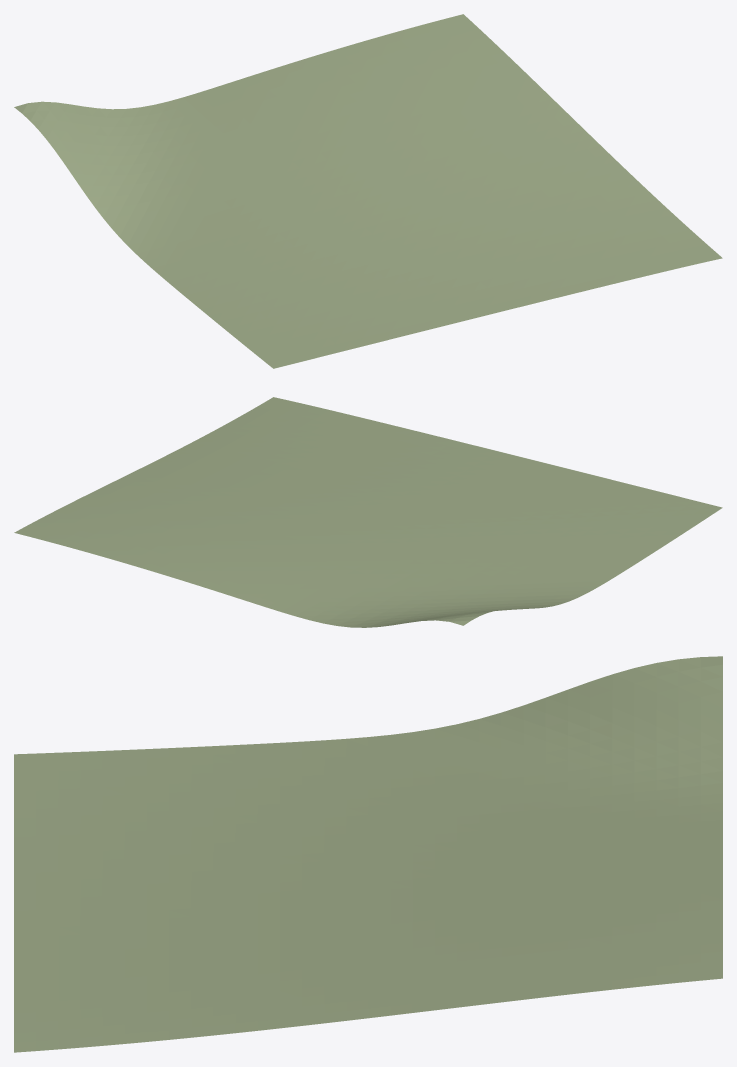
Rendered from lunar-2-5.glb.
3 renders of one model, top to bottom at view 1: azimuth 30°, elevation 25°; view 2: azimuth 150°, elevation 25°; view 3: azimuth 270°, elevation 25°, orthographic. The views are drawn at different scales.
Visible parts, largest first — view 1: lunar-2-5; view 2: lunar-2-5; view 3: lunar-2-5.
Boxes of the visible parts, x1,y1,x2,y2 form: lunar-2-5: (14, 14, 722, 368); lunar-2-5: (14, 397, 722, 627); lunar-2-5: (14, 656, 722, 1052).
Size of the model in its own units: 128 by 19.69 by 128.
